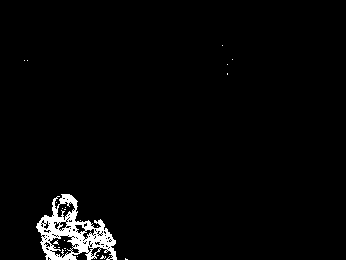person: (36, 192, 119, 260)
